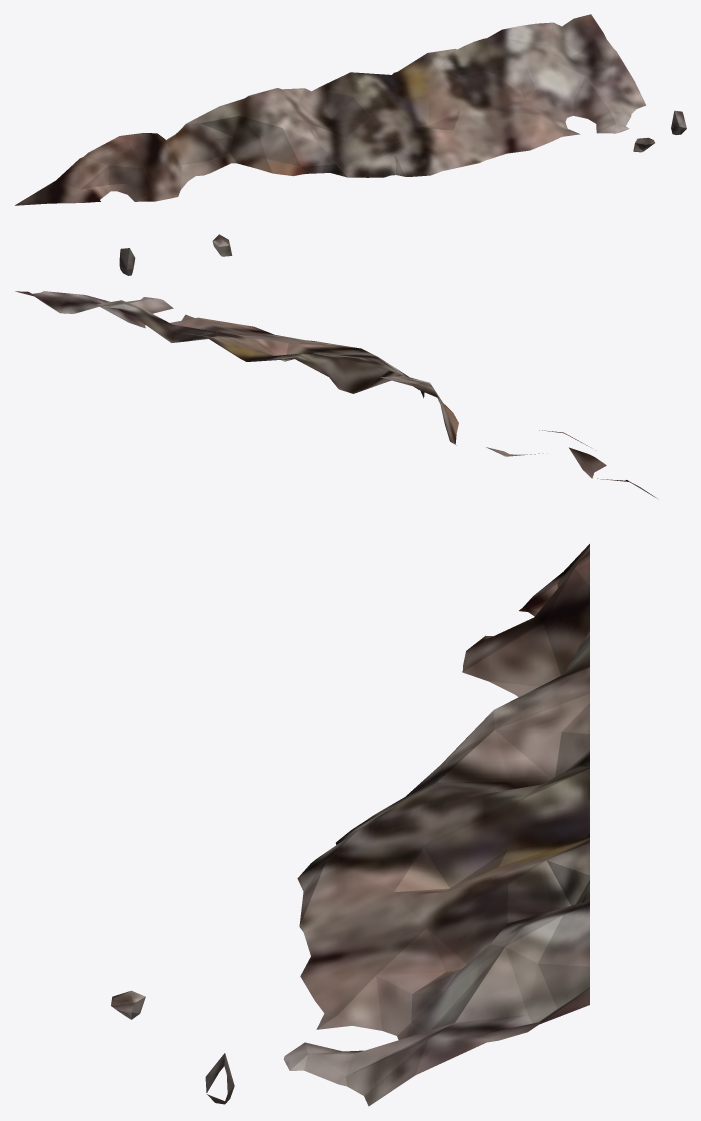
3 renders of one model, top to bottom at view 1: azimuth 30°, elevation 25°; view 2: azimuth 150°, elevation 25°; view 3: azimuth 270°, elevation 25°, orthographic. The views are drawn at different scales.
Bounding box in the file's own units: 1.48 × 0.1395 × 0.5303.
1 material, 1 textured.
